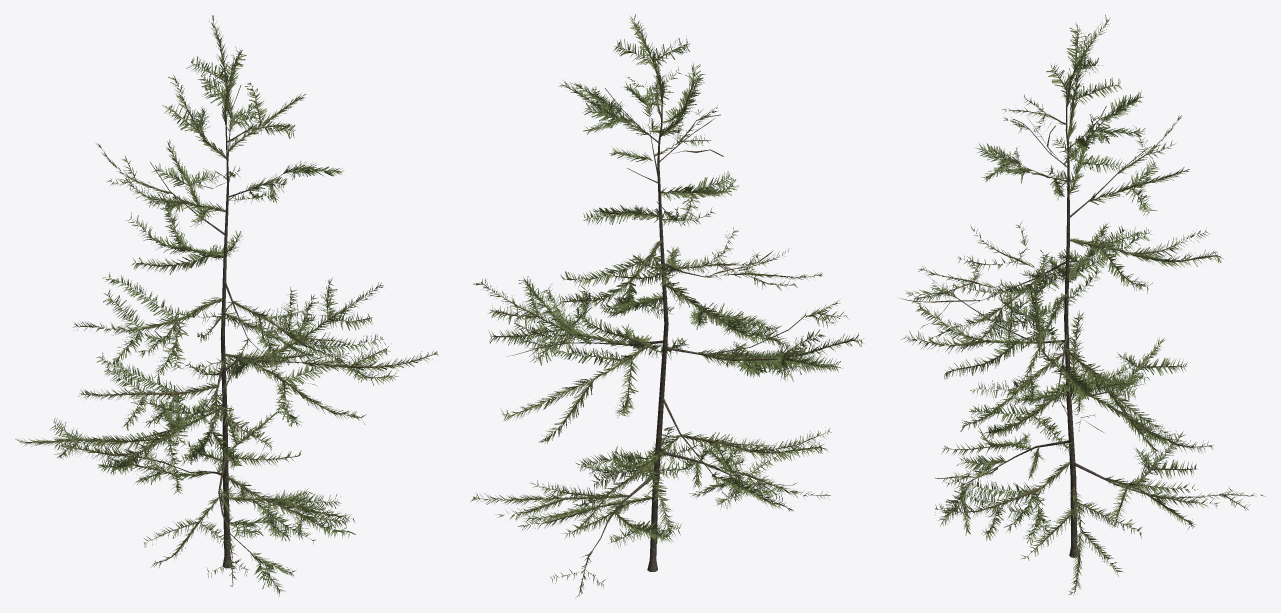
File: fir-young.glb
3 renders of one model, left to right at view 1: azimuth 30°, elevation 25°; view 2: azimuth 150°, elevation 25°; view 3: azimuth 270°, elevation 25°, orthographic. The views are drawn at different scales.
Parts seen in each view (by area): view 1: fir-a; view 2: fir-a; view 3: fir-a.
Boxes of the visible parts, bbox=[...] form: fir-a: bbox=[15, 15, 438, 597]; fir-a: bbox=[470, 14, 863, 598]; fir-a: bbox=[899, 15, 1265, 594].
Size of the model in its own units: 0.6607 by 0.9999 by 0.6195.
2 materials, 2 textured.
